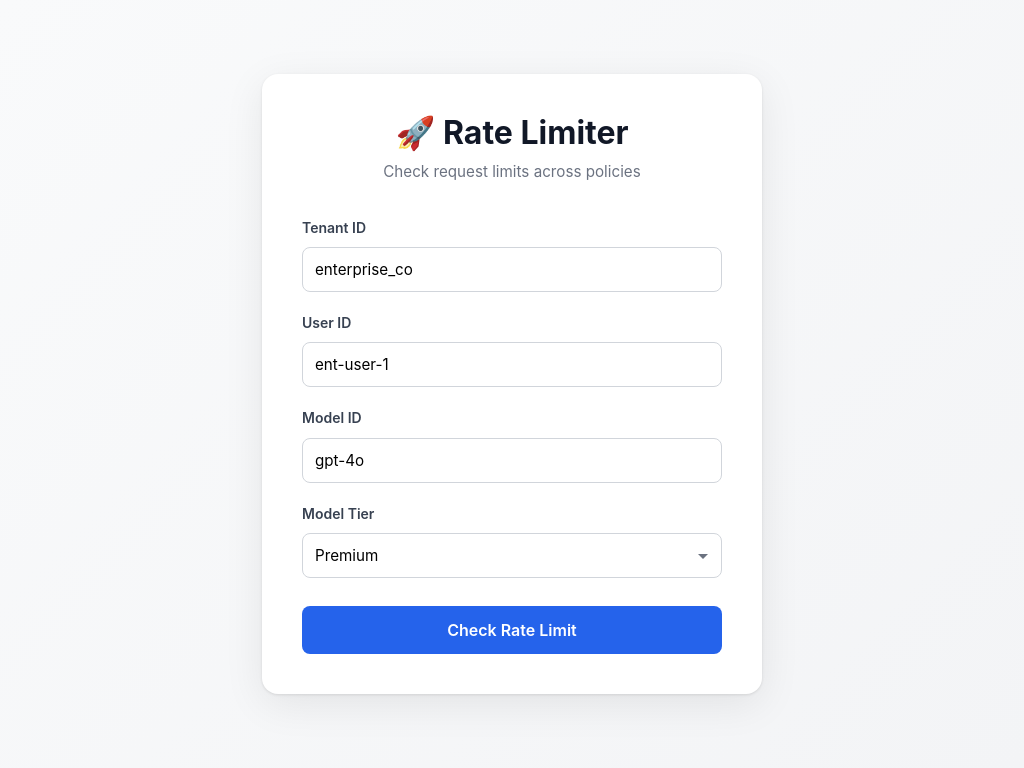
Test case: Rate Limiter App › Allowed Response Display › should display limit usage statistics
Click the button "Check Rate Limit".
click(512, 630)  # box [302,606,722,654]
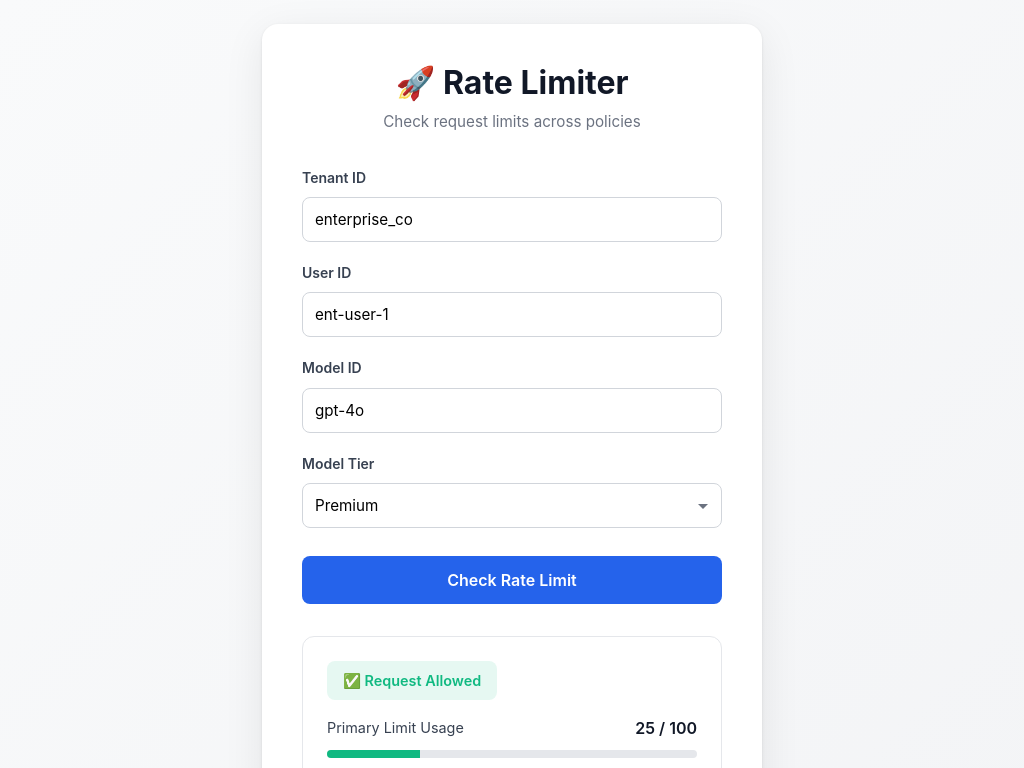
Now the text "25 / 100" is shown, box [635,716,697,742]
